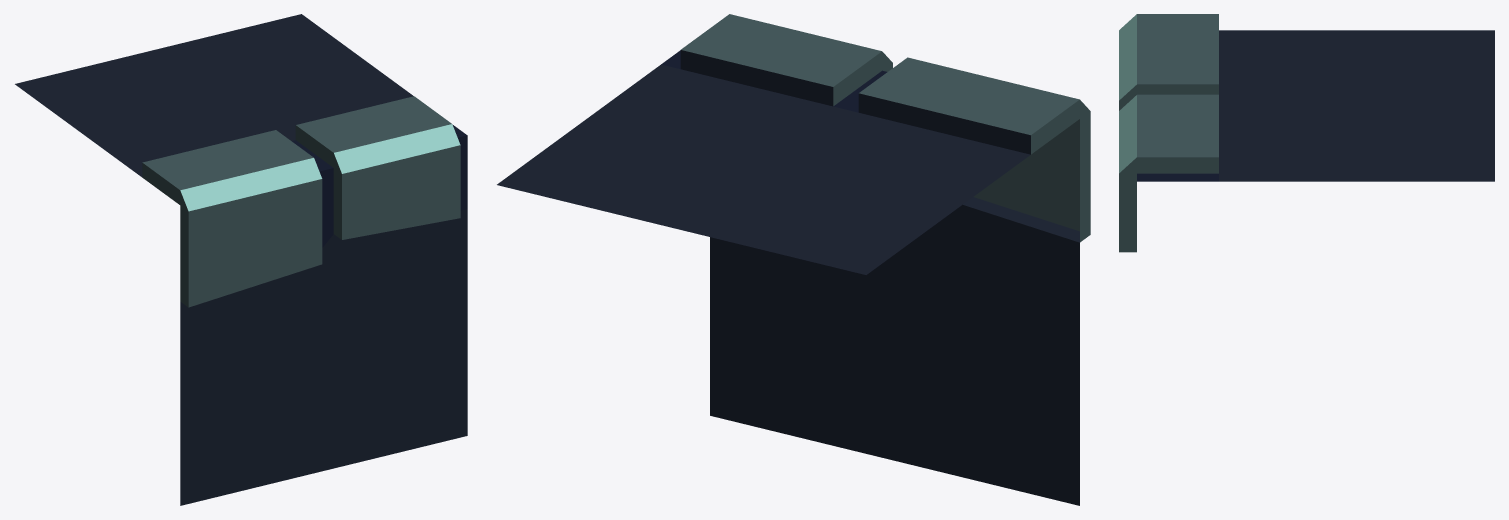
File: wall_edge.obj
3 views of the same model, side by side, from view 1: azimuth 30°, elevation 25°; view 2: azimuth 150°, elevation 25°; view 3: azimuth 270°, elevation 25° (orthographic). The views are drawn at different scales.
Visible parts, largest first — view 1: Cube; view 2: Cube; view 3: Cube.
Part boxes in pixels (bbox=[...]): Cube: bbox=[15, 14, 467, 505]; Cube: bbox=[497, 14, 1090, 505]; Cube: bbox=[1119, 14, 1494, 252].
Bounding box in the file's own units: 1 × 1.05 × 1.05.
